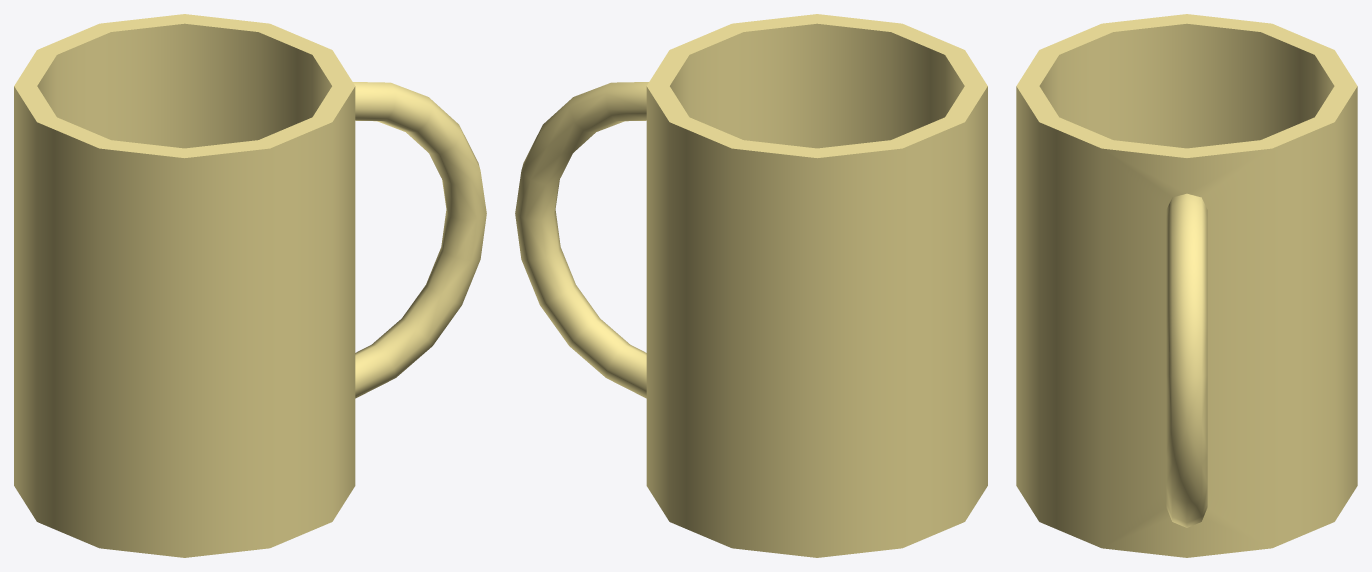
The model's file is ThrowProp_Mug_02.FBX.
3 renders of one model, left to right at view 1: azimuth 30°, elevation 25°; view 2: azimuth 150°, elevation 25°; view 3: azimuth 270°, elevation 25°, orthographic.
Parts seen in each view (by area): view 1: Mug; view 2: Mug; view 3: Mug.
Part boxes in pixels (box(x1,y1,x2,y2)): Mug: box(14, 14, 486, 557); Mug: box(515, 14, 987, 557); Mug: box(1016, 14, 1357, 557).
Size of the model in its own units: 12.43 by 10.6 by 8.2.
1 material, 1 textured.
